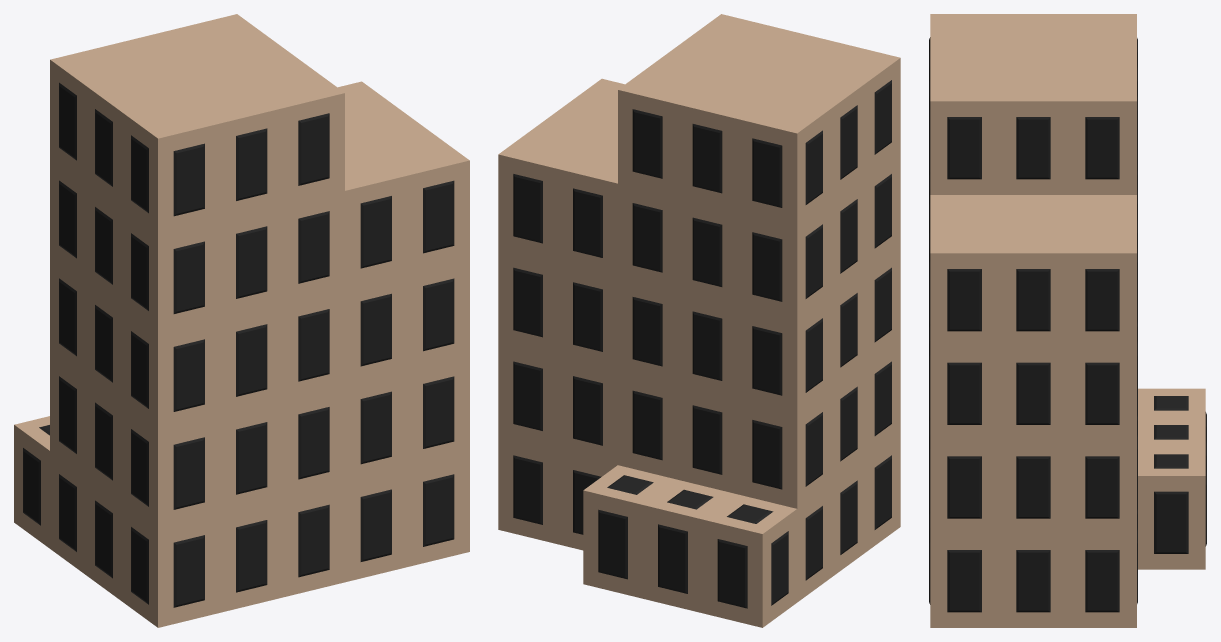
Rendered from Building3.fbx.
3 renders of one model, left to right at view 1: azimuth 30°, elevation 25°; view 2: azimuth 150°, elevation 25°; view 3: azimuth 270°, elevation 25°, orthographic. The views are drawn at different scales.
Parts seen in each view (by area): view 1: Building3; view 2: Building3; view 3: Building3.
Part boxes in pixels (left/top/right/bottom): Building3: left=14, top=14, right=469, bottom=627; Building3: left=498, top=14, right=900, bottom=627; Building3: left=929, top=14, right=1206, bottom=627.
Bounding box in the file's own units: 1007 × 1500 × 807.
